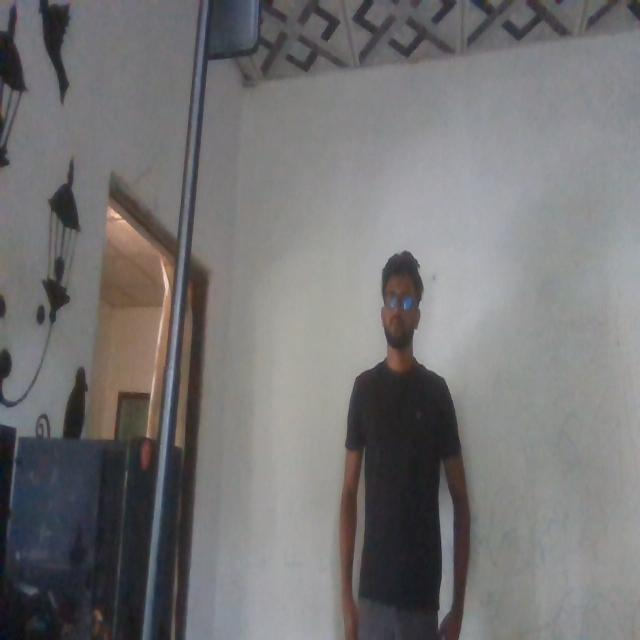Person: (326, 244, 468, 638)
